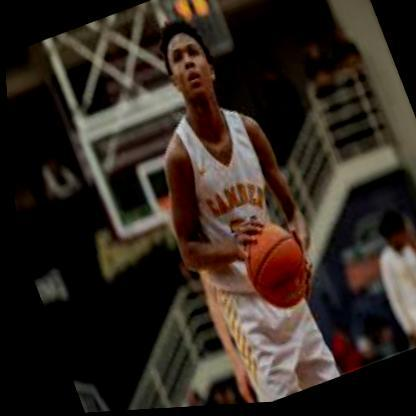basketball: (229, 218, 315, 321)
